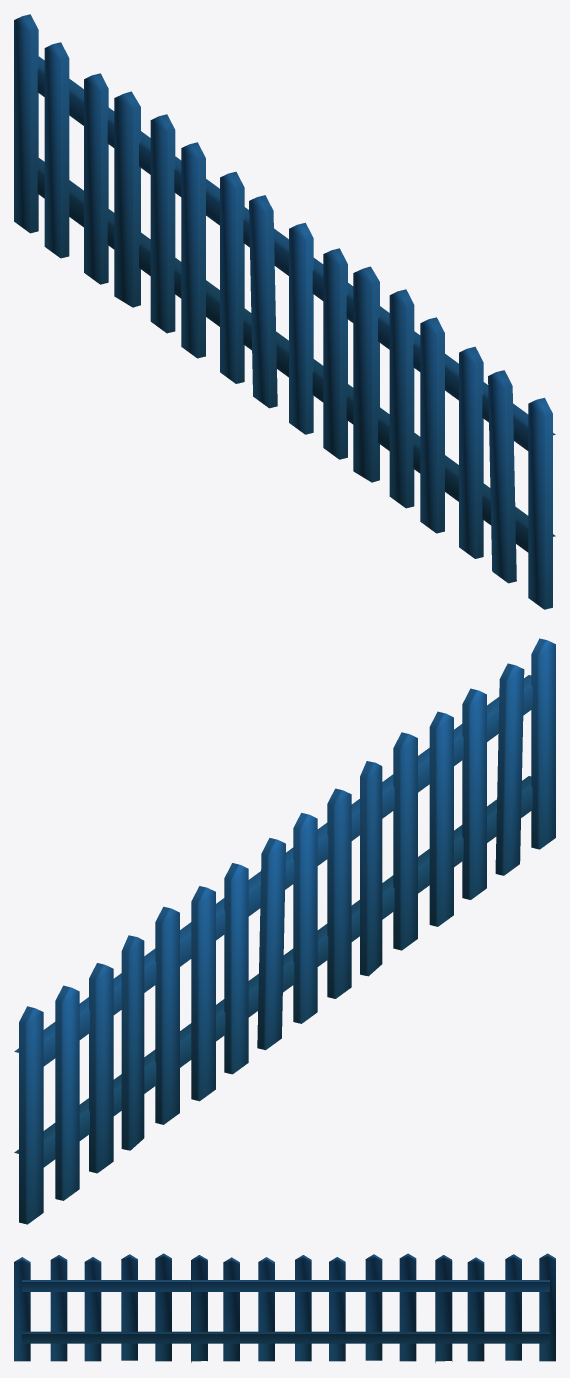
File: WoodFence02Night.fbx
The picture shows the model from 3 angles, top to bottom: view 1: azimuth 30°, elevation 25°; view 2: azimuth 150°, elevation 25°; view 3: azimuth 270°, elevation 25°; orthographic projection. The views are drawn at different scales.
Parts seen in each view (by area): view 1: WoodFence02Night; view 2: WoodFence02Night; view 3: WoodFence02Night.
Part boxes in pixels (x1,y1,x2,y2): WoodFence02Night: (14, 14, 555, 609); WoodFence02Night: (14, 638, 555, 1224); WoodFence02Night: (14, 1253, 555, 1362).
Bounding box in the file's own units: 21.73 × 186 × 847.
